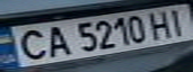0: (124, 12, 151, 43)
1: (112, 15, 133, 47)
2: (93, 17, 118, 51)
5: (72, 19, 96, 53)
A: (39, 22, 72, 58)
C: (9, 26, 51, 62)
H: (145, 8, 175, 39)
I: (163, 6, 193, 36)
